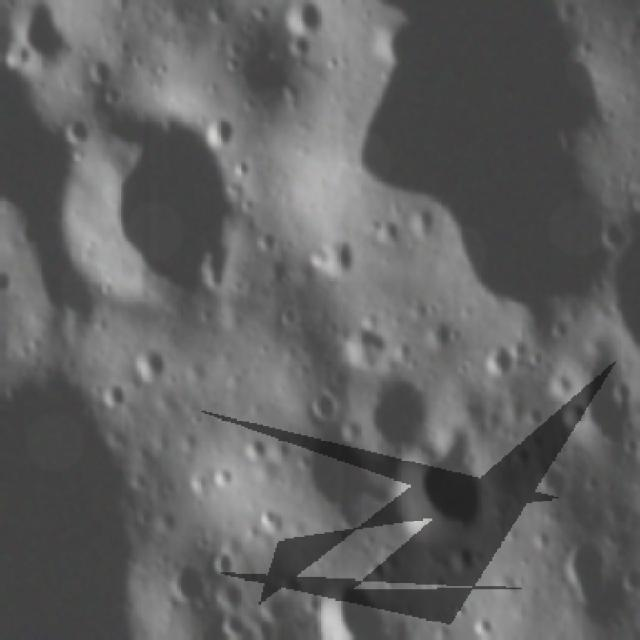crater: (62, 109, 262, 323), (372, 429, 491, 562), (540, 329, 640, 457), (272, 417, 378, 531), (338, 359, 442, 463), (549, 530, 623, 632), (0, 0, 75, 71), (306, 584, 381, 640), (278, 0, 352, 51), (155, 559, 214, 615), (474, 323, 514, 385), (312, 236, 359, 282), (81, 53, 130, 90), (198, 111, 238, 152), (132, 342, 172, 382)
